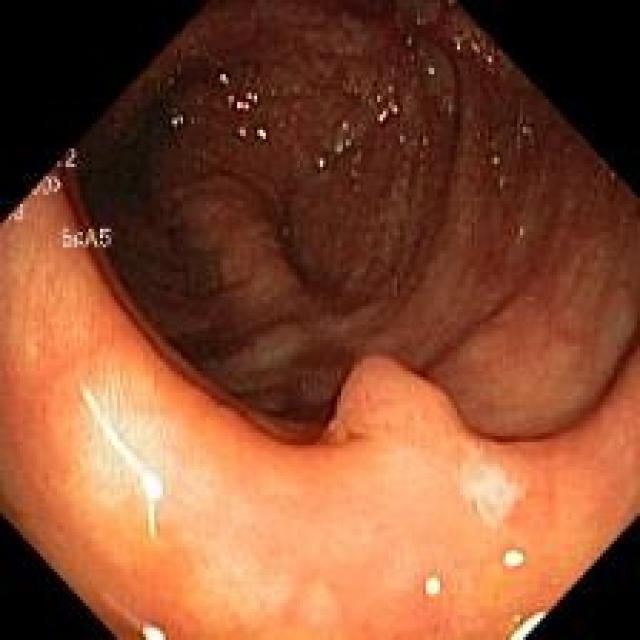Polyps: (324, 357, 469, 447), (480, 487, 516, 531)
